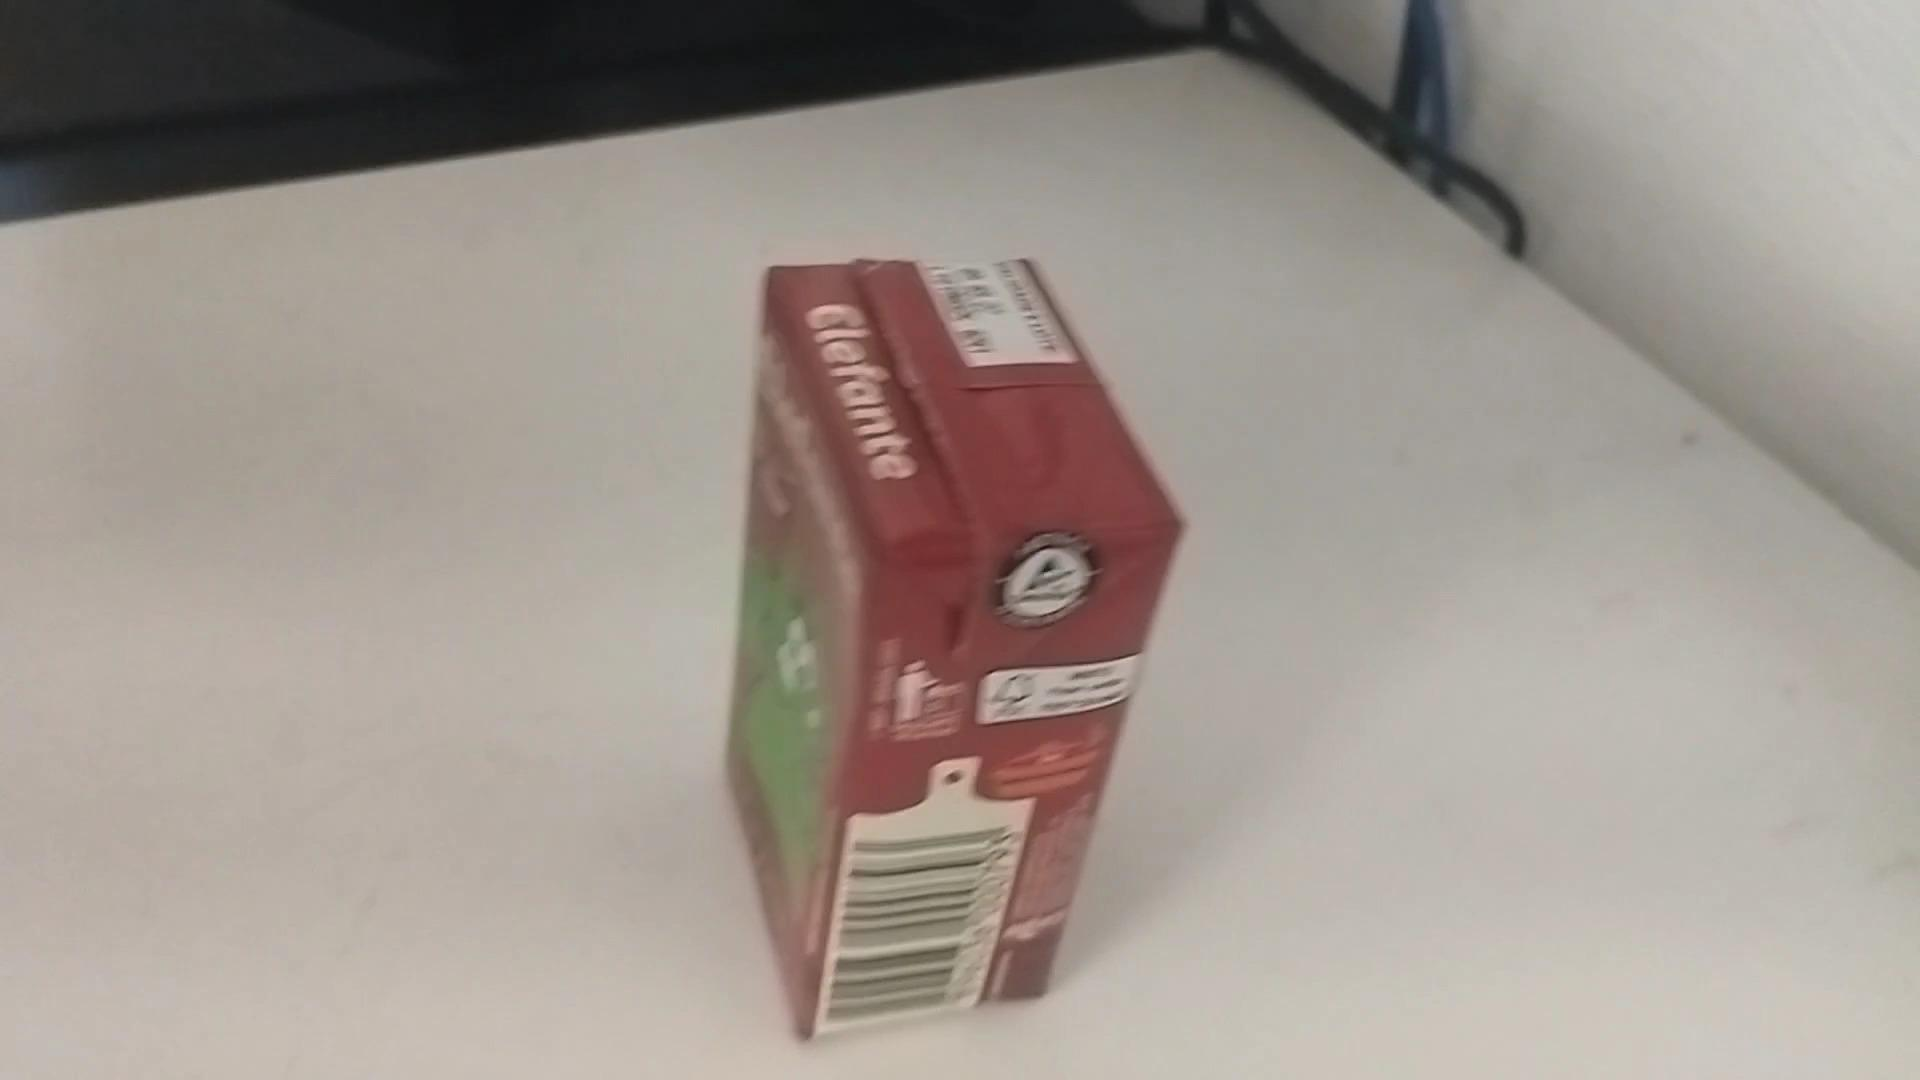tomate: (724, 245, 1200, 1039)
